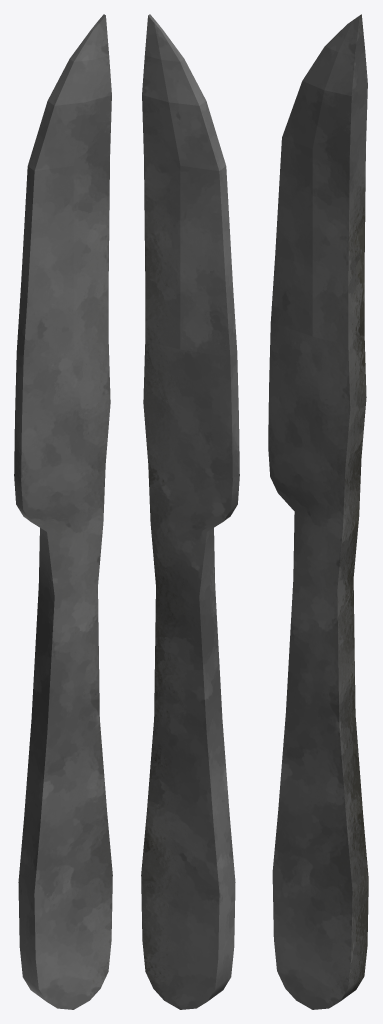
Rendered from Faca_MESH.fbx.
The picture shows the model from 3 angles, left to right: view 1: azimuth 30°, elevation 25°; view 2: azimuth 150°, elevation 25°; view 3: azimuth 330°, elevation 25°; orthographic projection.
Visible parts, largest first — view 1: Faca_MESH; view 2: Faca_MESH; view 3: Faca_MESH.
Boxes of the visible parts, left/top/right/bottom form: Faca_MESH: left=14, top=14, right=112, bottom=1009; Faca_MESH: left=141, top=14, right=239, bottom=1009; Faca_MESH: left=268, top=14, right=368, bottom=1009.
Size of the model in its own units: 2.3 by 24.58 by 0.7251.
Materials: 1 (1 with a texture image).
